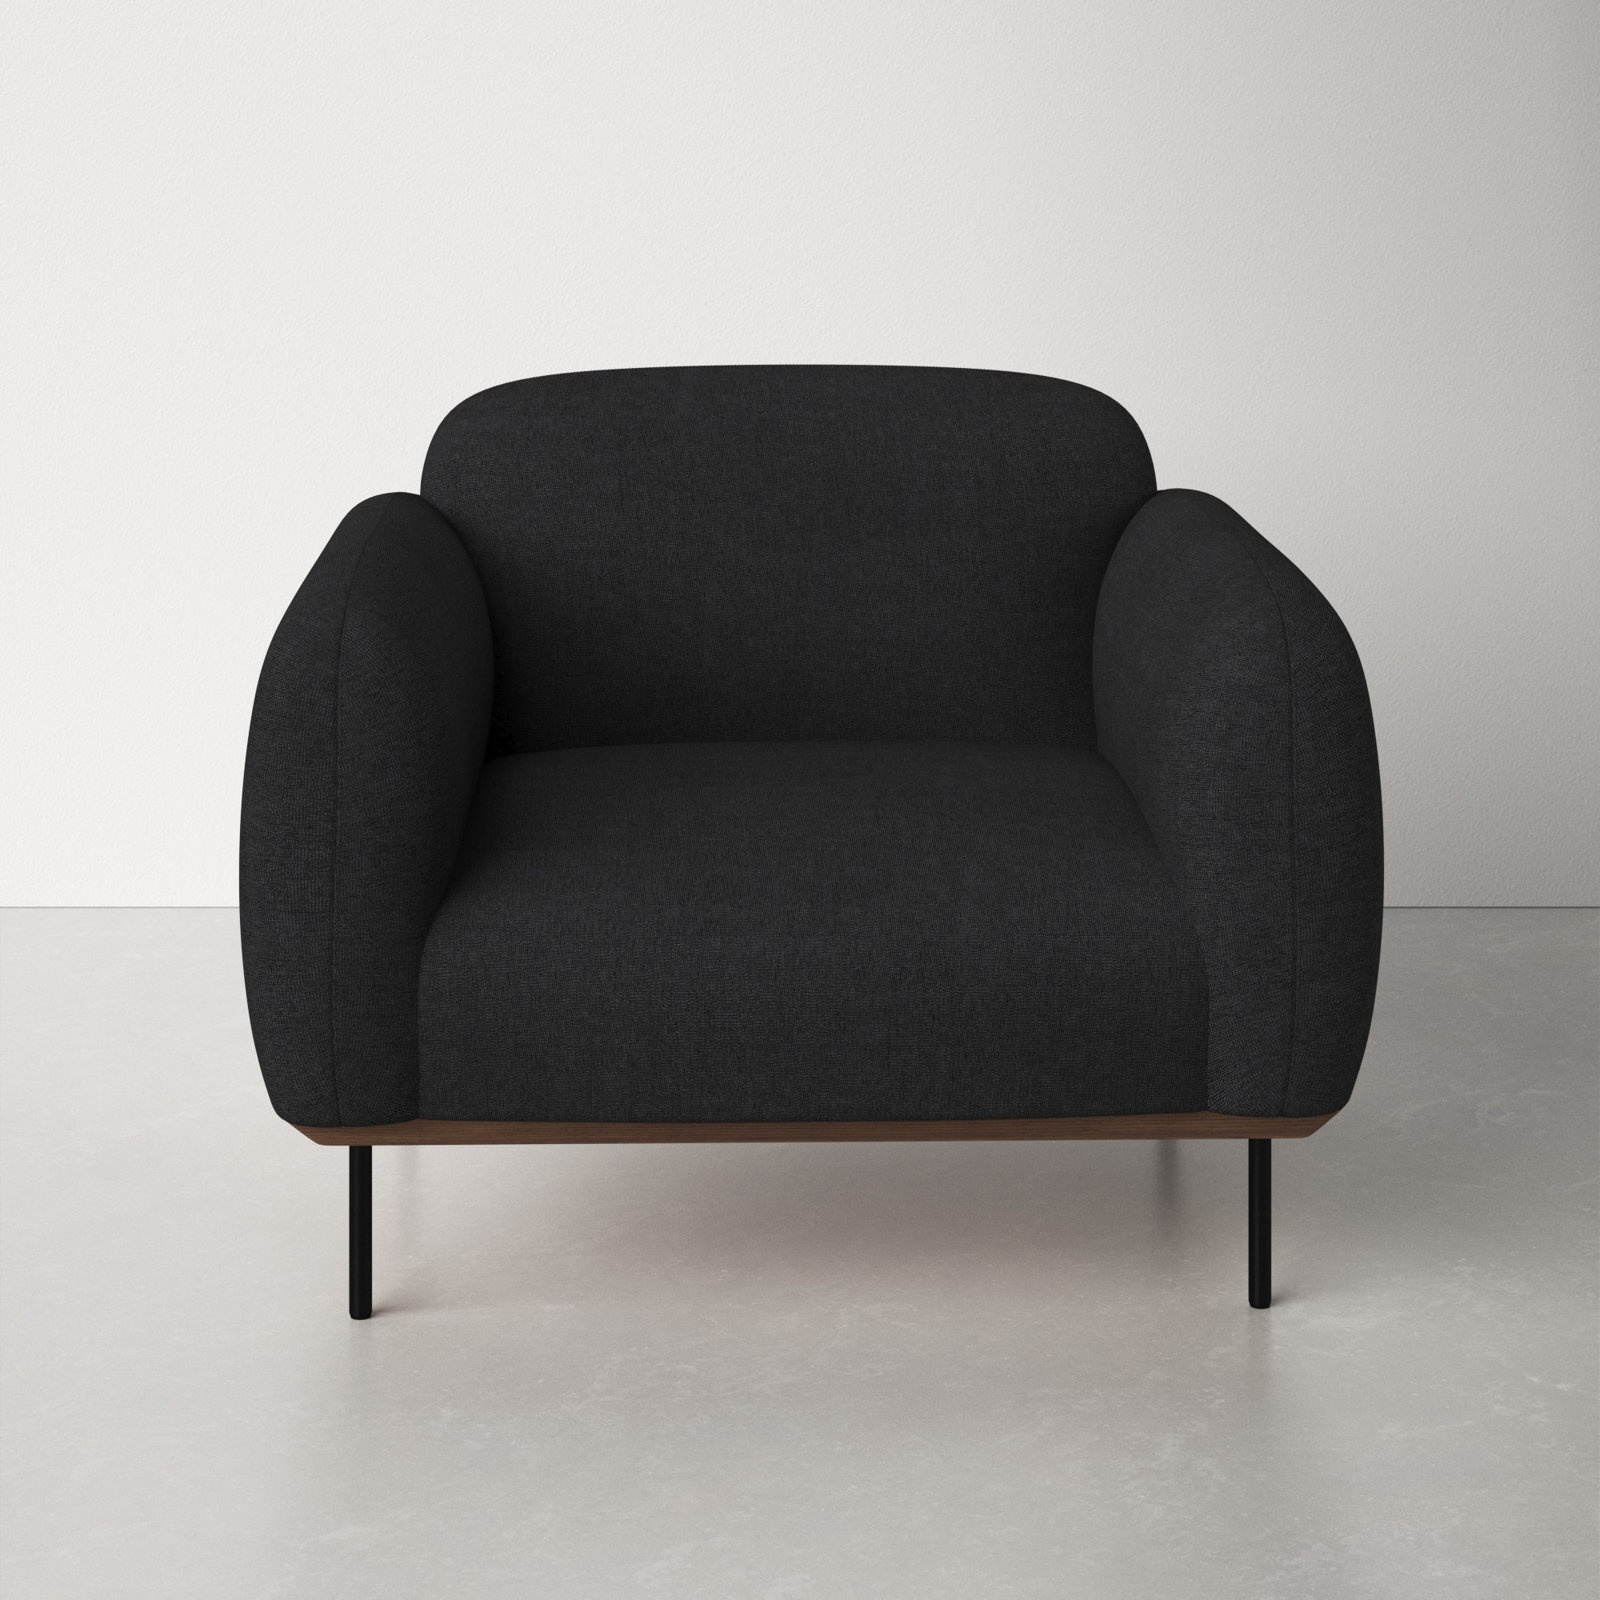obstacle: (242, 366, 1382, 1314)
